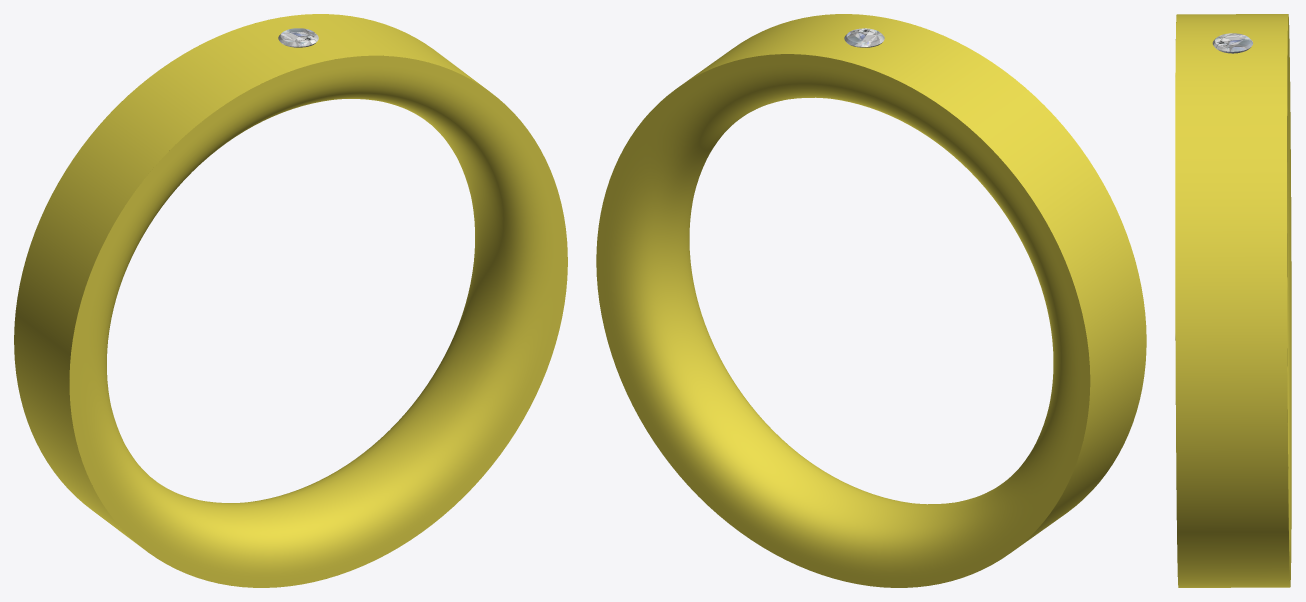
Rendered from ringretafinacompedra.glb.
3 views of the same model, side by side, from view 1: azimuth 30°, elevation 25°; view 2: azimuth 150°, elevation 25°; view 3: azimuth 270°, elevation 25° (orthographic).
Parts seen in each view (by area): view 1: Circle; view 2: Circle; view 3: Circle, Cone.
Part boxes in pixels (<box>): Circle: <box>14,14,567,587</box>; Circle: <box>596,14,1146,587</box>; Circle: <box>1175,14,1291,587</box>; Cone: <box>1212,33,1253,53</box>.
Bounding box in the file's own units: 2.52 × 2.53 × 0.5109.
2 materials, 1 textured.
